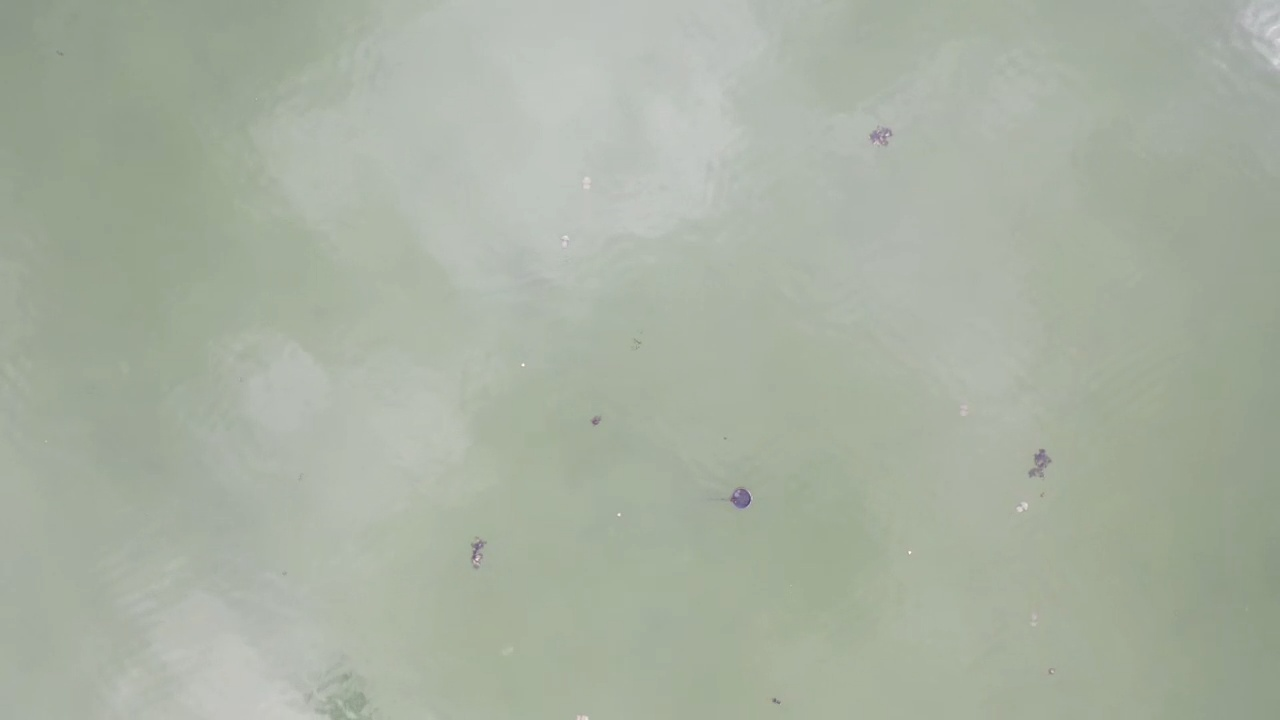meduse: (1028, 615, 1042, 629), (1017, 502, 1032, 515), (581, 176, 594, 188), (499, 648, 514, 658), (558, 237, 571, 248), (958, 405, 971, 416), (576, 712, 594, 719)
